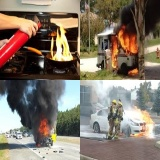fire: (111, 28, 139, 67), (49, 26, 76, 61), (131, 104, 155, 138), (38, 118, 50, 137), (127, 66, 139, 78), (131, 130, 149, 136)
